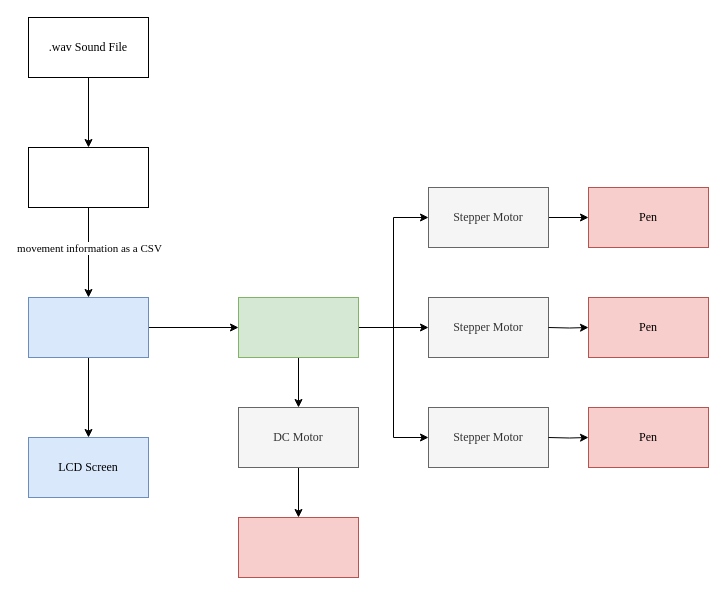
Some shapes in this 727 by 595 pixel diagram are drawn without their labels. The shapes that lost their labels are listed below. From the top down, each one's box as (x1, y1, x2, y2) in pixels, then its label:
(28, 146, 148, 208): Audio Analysis (FFT)
(28, 296, 148, 358): Raspberry Pi
(238, 296, 358, 358): Arduino
(238, 516, 358, 578): Rotating Disc
